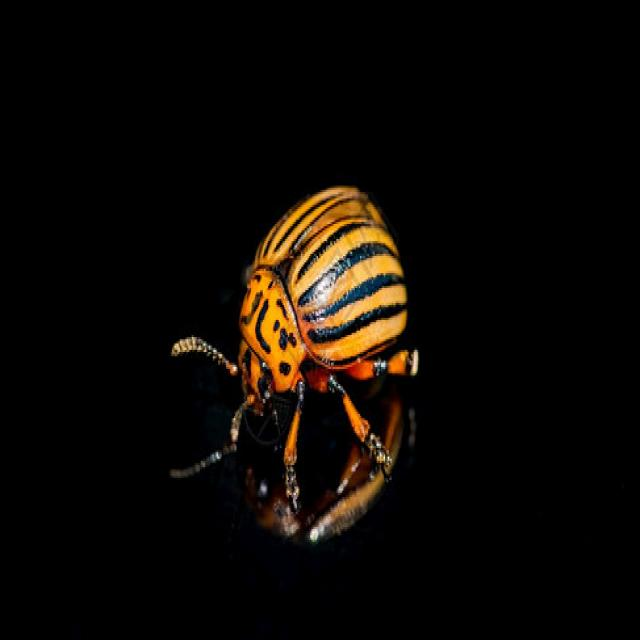ShuCaiHuaBanChong-Grown-: (212, 155, 428, 445)
